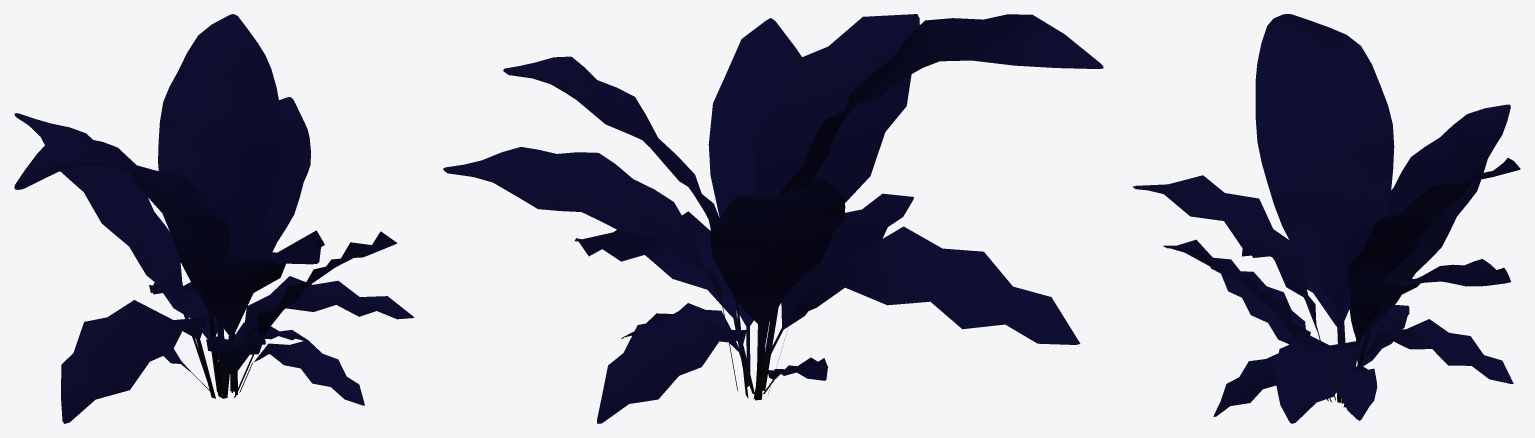
The model's file is SM_Foliage_PalmPlantB_02.fbx.
3 views of the same model, side by side, from view 1: azimuth 30°, elevation 25°; view 2: azimuth 150°, elevation 25°; view 3: azimuth 270°, elevation 25° (orthographic). The views are drawn at different scales.
Visible parts, largest first — view 1: SM_Foliage_PalmPlantB_02; view 2: SM_Foliage_PalmPlantB_02; view 3: SM_Foliage_PalmPlantB_02.
Part boxes in pixels (<box>): SM_Foliage_PalmPlantB_02: <box>14,14,414,423</box>; SM_Foliage_PalmPlantB_02: <box>443,14,1103,423</box>; SM_Foliage_PalmPlantB_02: <box>1132,14,1520,423</box>.
Bounding box in the file's own units: 220 × 190 × 160.
